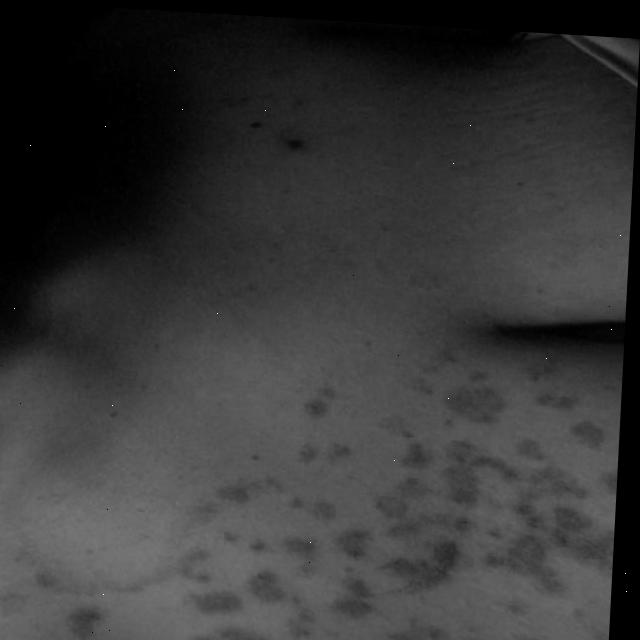Rosacea: (57, 349, 622, 640)
